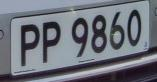0: (125, 5, 146, 51)
6: (108, 6, 127, 56)
8: (90, 10, 109, 59)
9: (68, 12, 91, 63)
P: (17, 18, 42, 73), (40, 14, 63, 70)
